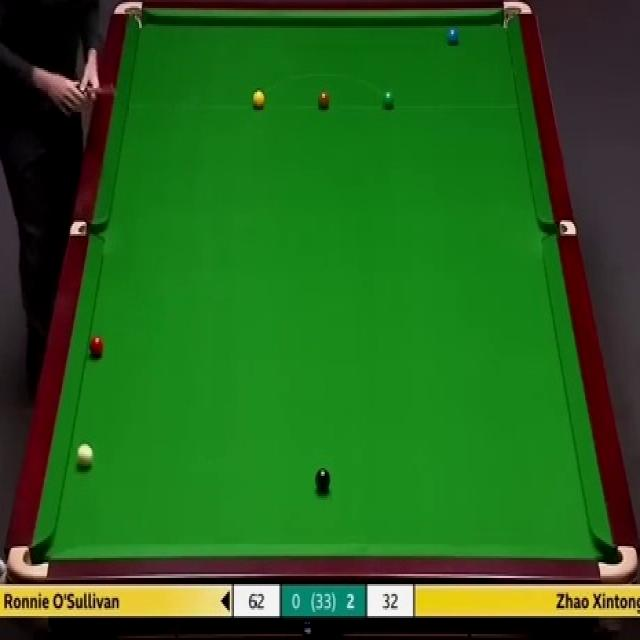black-ball: (315, 467, 329, 493)
blue-ball: (446, 27, 460, 46)
brown-ball: (317, 92, 330, 109)
green-ball: (382, 88, 396, 112)
red-ball: (89, 335, 105, 358)
white-ball: (76, 443, 94, 473)
yellow-ball: (252, 89, 266, 110)
